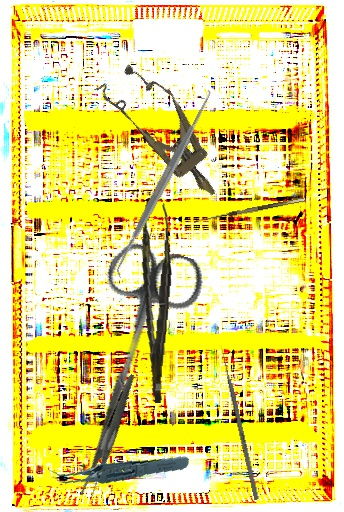Dressing Forceps: (52, 373, 168, 502)
Hook Surgical: (193, 197, 307, 229)
Iris Scissors: (55, 236, 210, 466)
Pusher: (218, 344, 260, 501)
Spatula Surgical: (104, 86, 223, 281)
Speculum: (94, 53, 237, 213)
Tissue Forceps: (128, 201, 179, 404), (47, 438, 191, 499)
